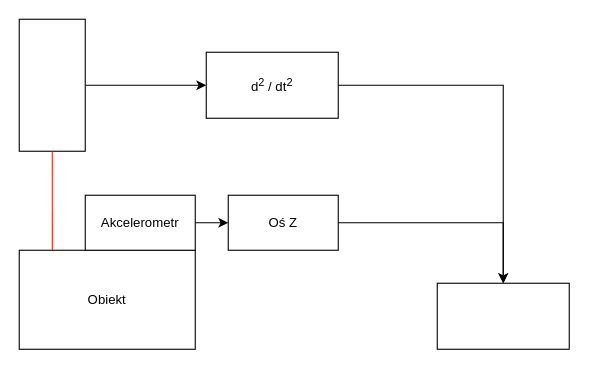
This 589x369 diagram has some shape labels left out. Here are the shapes that lost their labels. From the top down, the centre of each, then its label:
At point (51, 84): "Laserowy czujnik połozenia".
At point (502, 315): "Korelacja".
